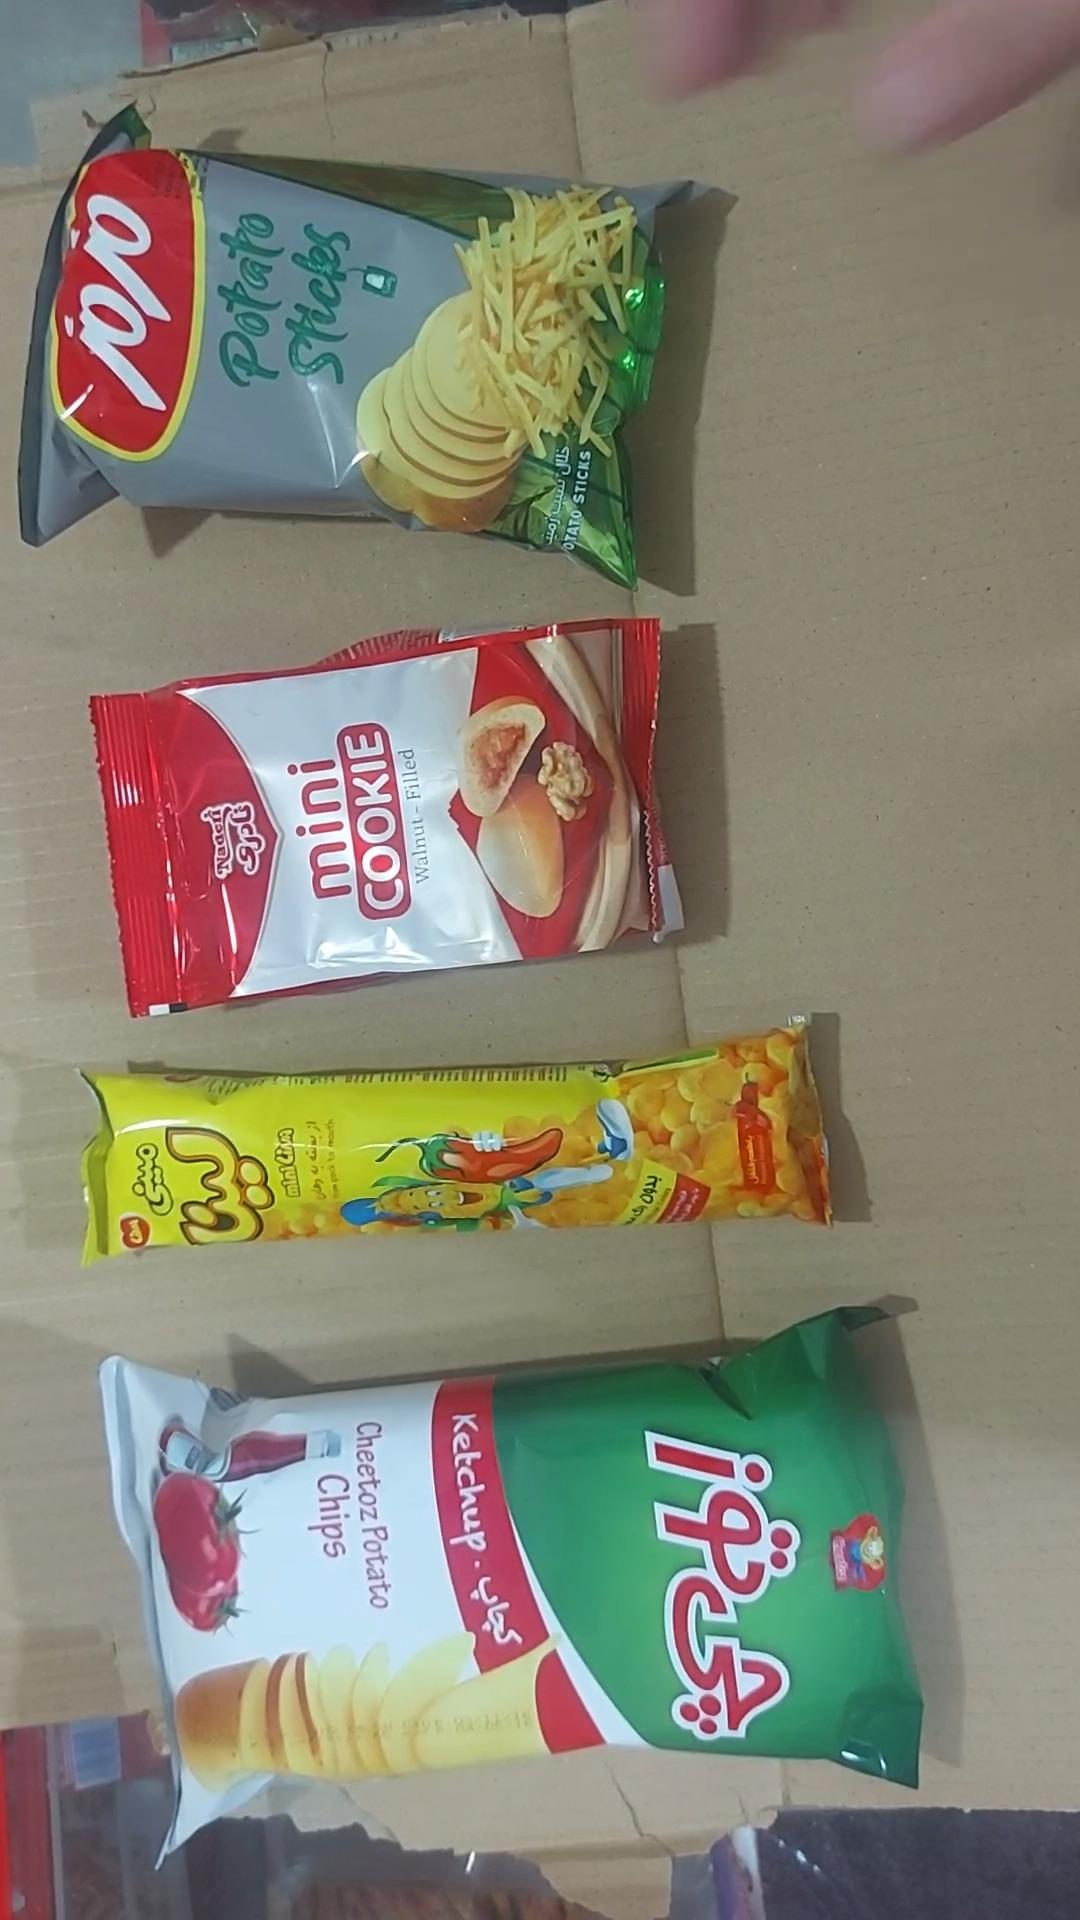Cheetoz ketchup chips: (98, 1295, 924, 1873)
Maz Maz potato sticks: (17, 105, 700, 591)
Mini Lina: (79, 1027, 831, 1267)
Naderi mini cookie: (87, 617, 684, 1021)
